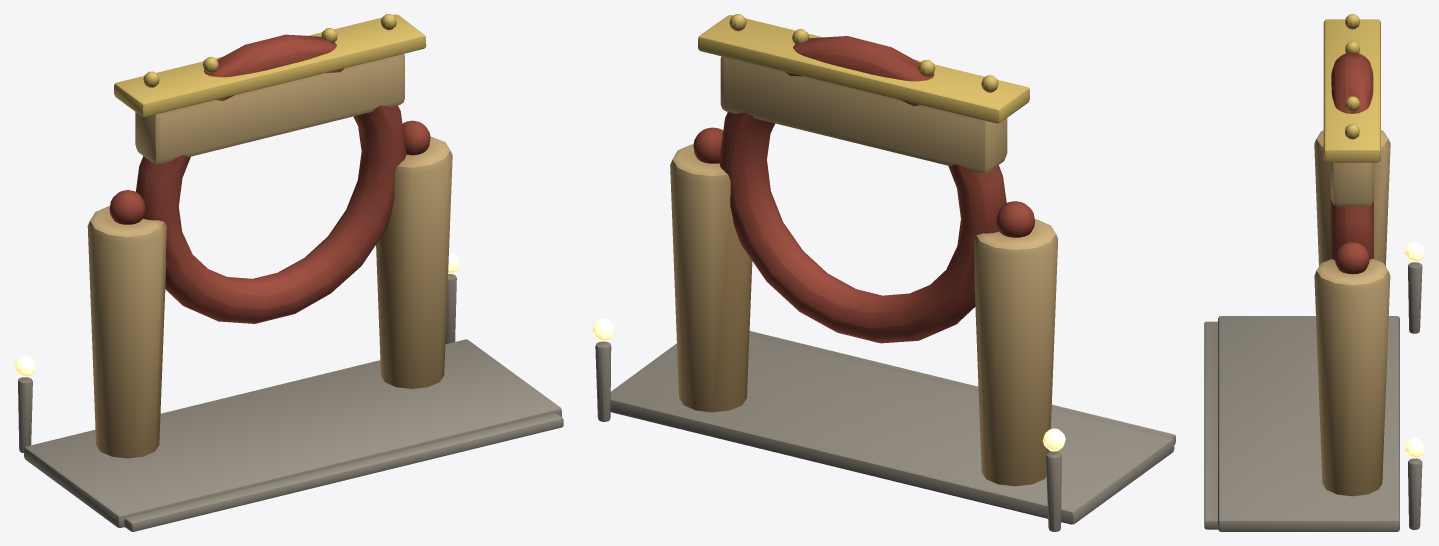
3 renders of one model, left to right at view 1: azimuth 30°, elevation 25°; view 2: azimuth 150°, elevation 25°; view 3: azimuth 270°, elevation 25°, orthographic. The views are drawn at different scales.
Parts seen in each view (by area): view 1: gate_11d2dbe2; view 2: gate_11d2dbe2; view 3: gate_11d2dbe2.
Boxes of the visible parts, x1=… form: gate_11d2dbe2: x1=14, y1=14, x2=563, y2=531; gate_11d2dbe2: x1=592, y1=14, x2=1175, y2=531; gate_11d2dbe2: x1=1204, y1=14, x2=1424, y2=531.
Size of the model in its own units: 5.62 by 4.63 by 2.54.
